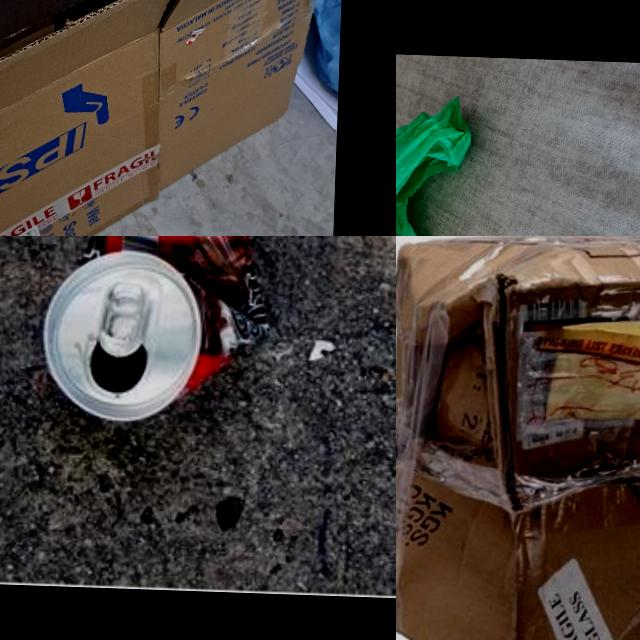aba de lata: (98, 280, 155, 358)
lata: (39, 236, 278, 427)
papelão: (396, 236, 640, 640), (0, 0, 344, 236)
sacola plástica: (396, 85, 476, 236)
